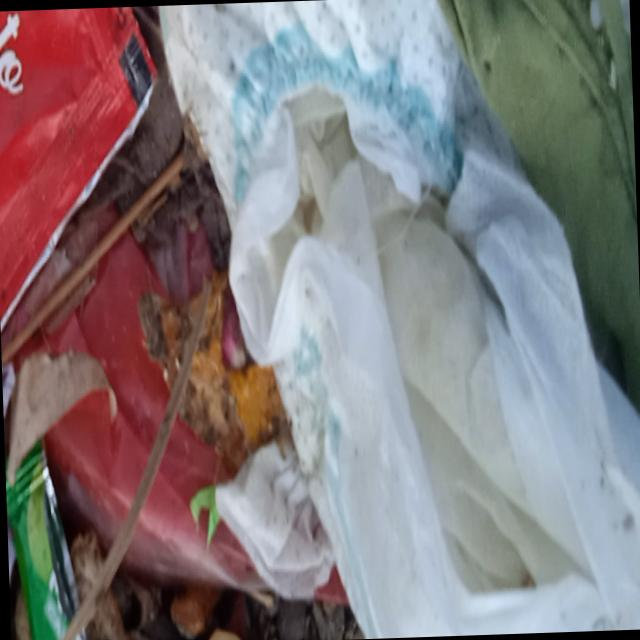electronic: (0, 0, 640, 640), (0, 5, 167, 377), (4, 432, 87, 640)
